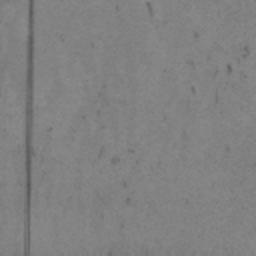Scratches: (24, 0, 34, 256), (146, 2, 153, 17)
